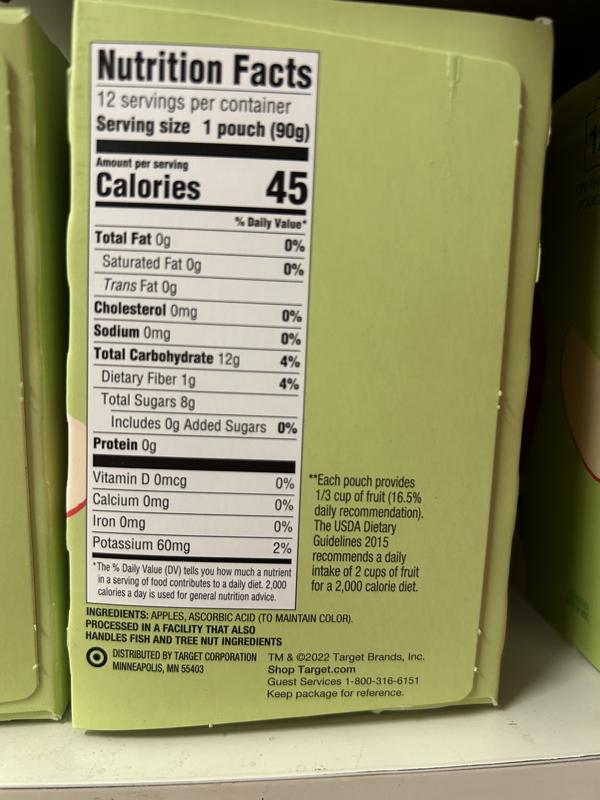ingredients: (83, 603, 357, 625)
